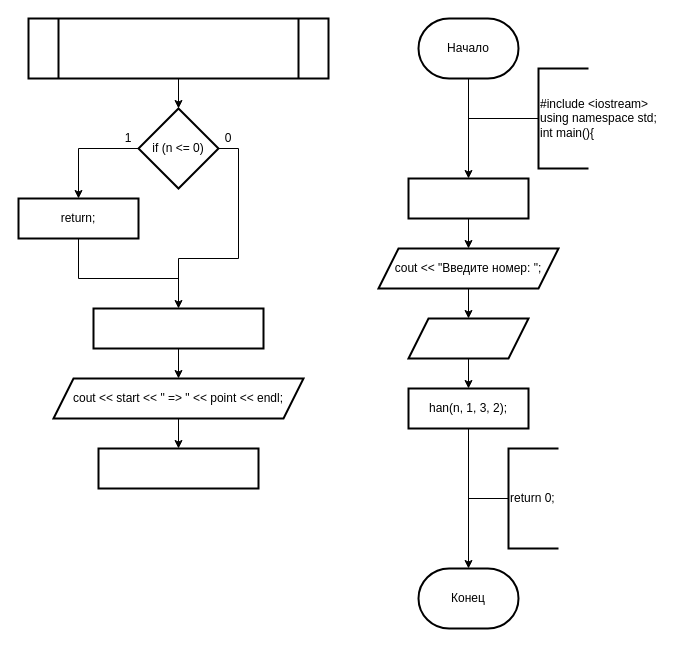
This 674x646 diagram has some shape labels left out. Here are the shapes that lost their labels. From the top down, the centre of each, then its label:
the point at 178,48: void han(int n, int start, int point, int temp){
the point at 468,198: int n;
the point at 178,328: han(n - 1, start, temp, point);
the point at 468,338: cin >> n;
the point at 178,468: han(n - 1, temp, point, start);
